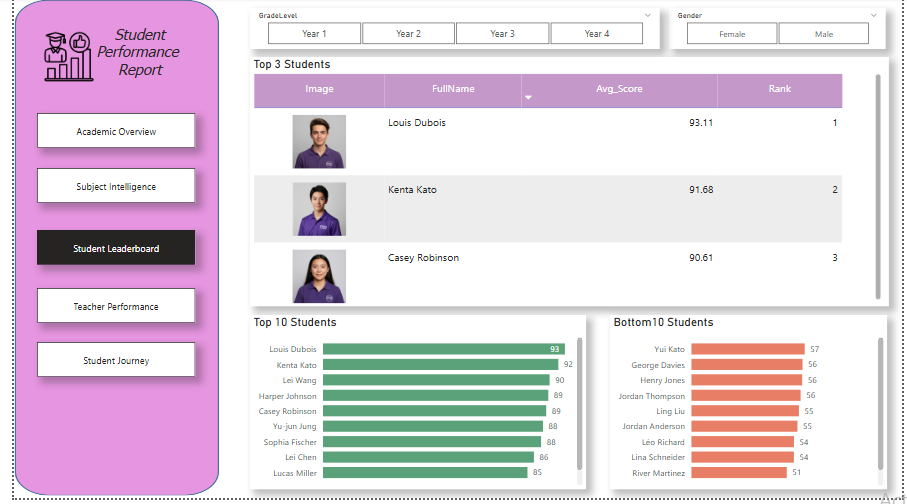

What the dashboard file says about the page in this screenshot:
{"tool":"powerbi","page":{"name":"Student Leaderboard","canvas":[1280,720],"ordinal":2},"visuals":[{"type":"slicer","fields":{"Values":["DimStudents.Gender"]},"box":[943.2,14.4,312.5,59],"z":0},{"type":"slicer","fields":{"Values":["DimStudents.GradeLevel"]},"box":[339.8,14.4,590.4,59],"z":1000},{"type":"tableEx","title":"Top 3 Students","fields":{"Values":["DimStudents.Direct Image URL (Power BI Ready)","DimStudents.FullName","Measures (2).Avg_Score","Measures (2).Student_RANK"]},"box":[339.8,85,920.2,358.6],"z":2000},{"type":"clusteredBarChart","title":"Top 10 Students","fields":{"Category":["DimStudents.FullName"],"Y":["Measures (2).Avg_Score"]},"box":[339.8,456.5,483.8,250.6],"z":3000},{"type":"clusteredBarChart","title":"Bottom10 Students","fields":{"Category":["DimStudents.FullName"],"Y":["Measures (2).Avg_Score"]},"box":[858.2,456.5,398.9,250.6],"z":4000},{"type":"image","box":[0,1.4,296.6,715.7],"z":5000},{"type":"pageNavigator","box":[33.1,165.6,229,50.4],"z":6000},{"type":"pageNavigator","box":[33.1,495.4,229,50.4],"z":7000},{"type":"pageNavigator","box":[33.1,417.6,229,50.4],"z":8000},{"type":"pageNavigator","box":[33.1,334.1,229,50.4],"z":9000},{"type":"pageNavigator","box":[33.1,244.8,229,50.4],"z":10000},{"type":"image","box":[43.2,34.6,72,99.4],"z":11000},{"type":"textbox","box":[99.4,34.6,162.7,99.4],"z":12000}]}

Visuals, with their boxes in screenshot pixels (x1, y1, x2, y2), scaled from the page's 1280x720 canvas onto the 907x504 screenshot:
slicer - DimStudents.Gender: 668:10:890:51
slicer - DimStudents.GradeLevel: 241:10:659:51
"Top 3 Students" tableEx: 241:59:893:311
"Top 10 Students" clusteredBarChart: 241:320:584:495
"Bottom10 Students" clusteredBarChart: 608:320:891:495
image: 0:1:210:502
pageNavigator: 23:116:186:151
pageNavigator: 23:347:186:382
pageNavigator: 23:292:186:328
pageNavigator: 23:234:186:269
pageNavigator: 23:171:186:207
image: 31:24:82:94
textbox: 70:24:186:94
